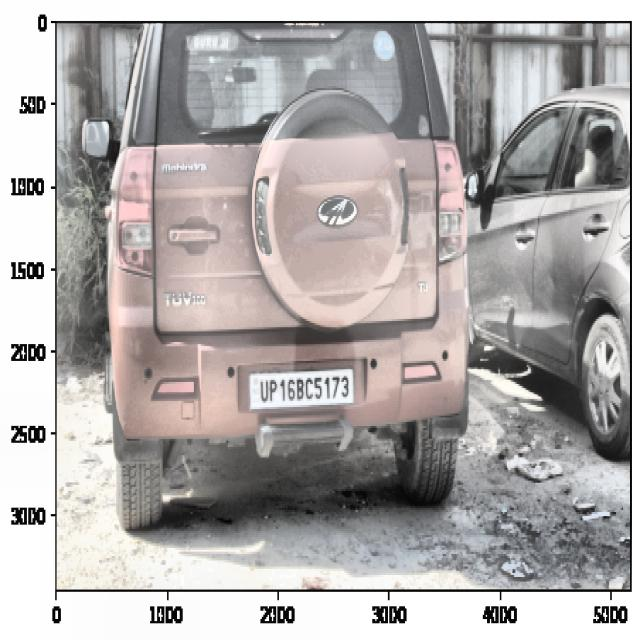license_plate: (258, 371, 352, 408)
